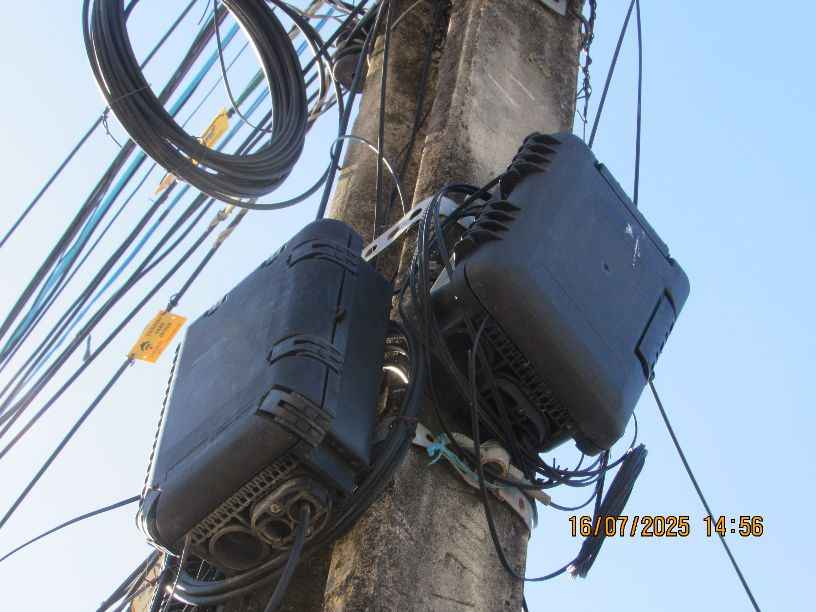caixa_derivacao: (137, 219, 398, 572), (430, 111, 688, 458)
tronco_metalico: (84, 1, 346, 208)
